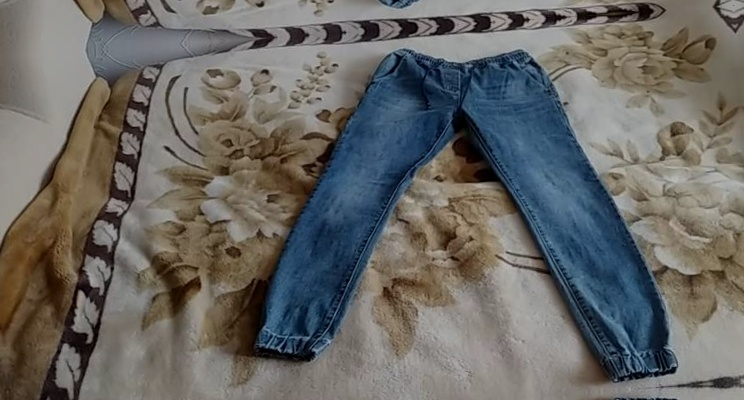Pants: (225, 34, 677, 400), (198, 0, 650, 17)
